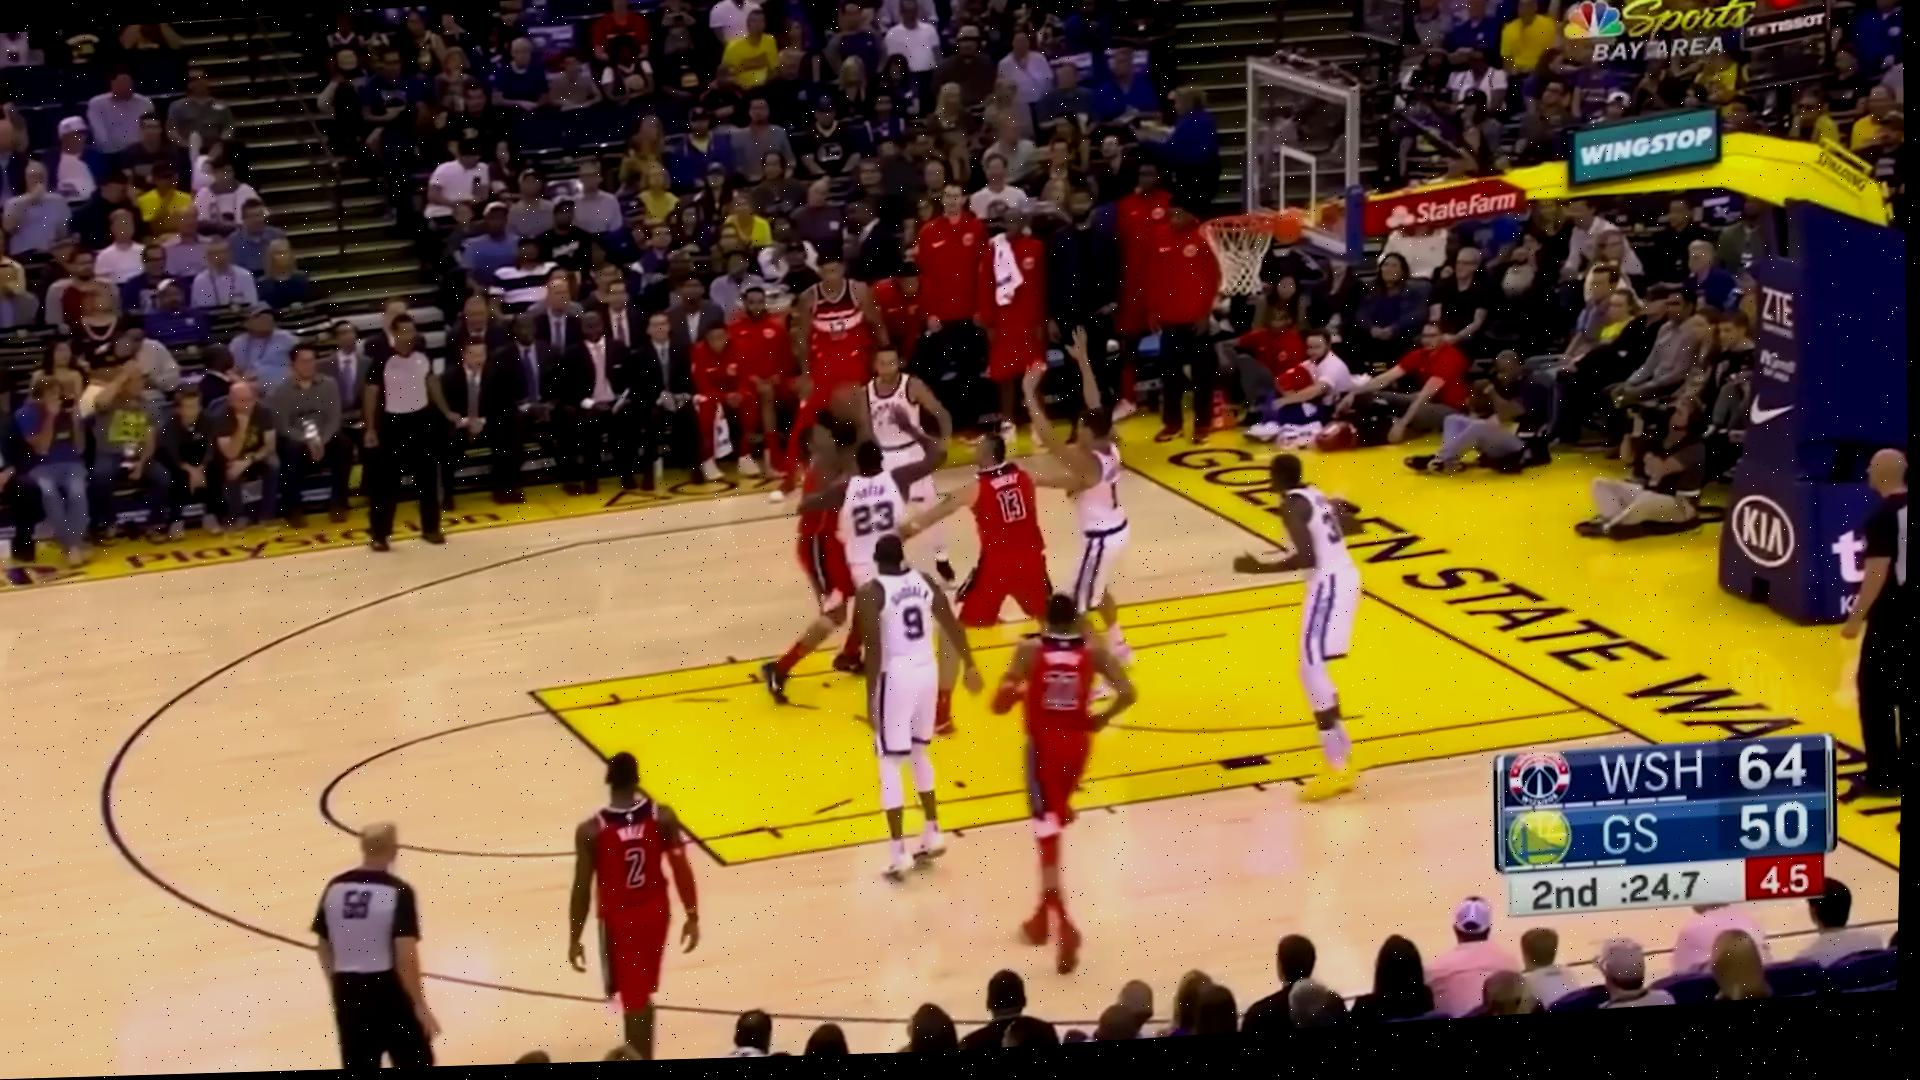no_foul: (760, 335, 972, 669)
